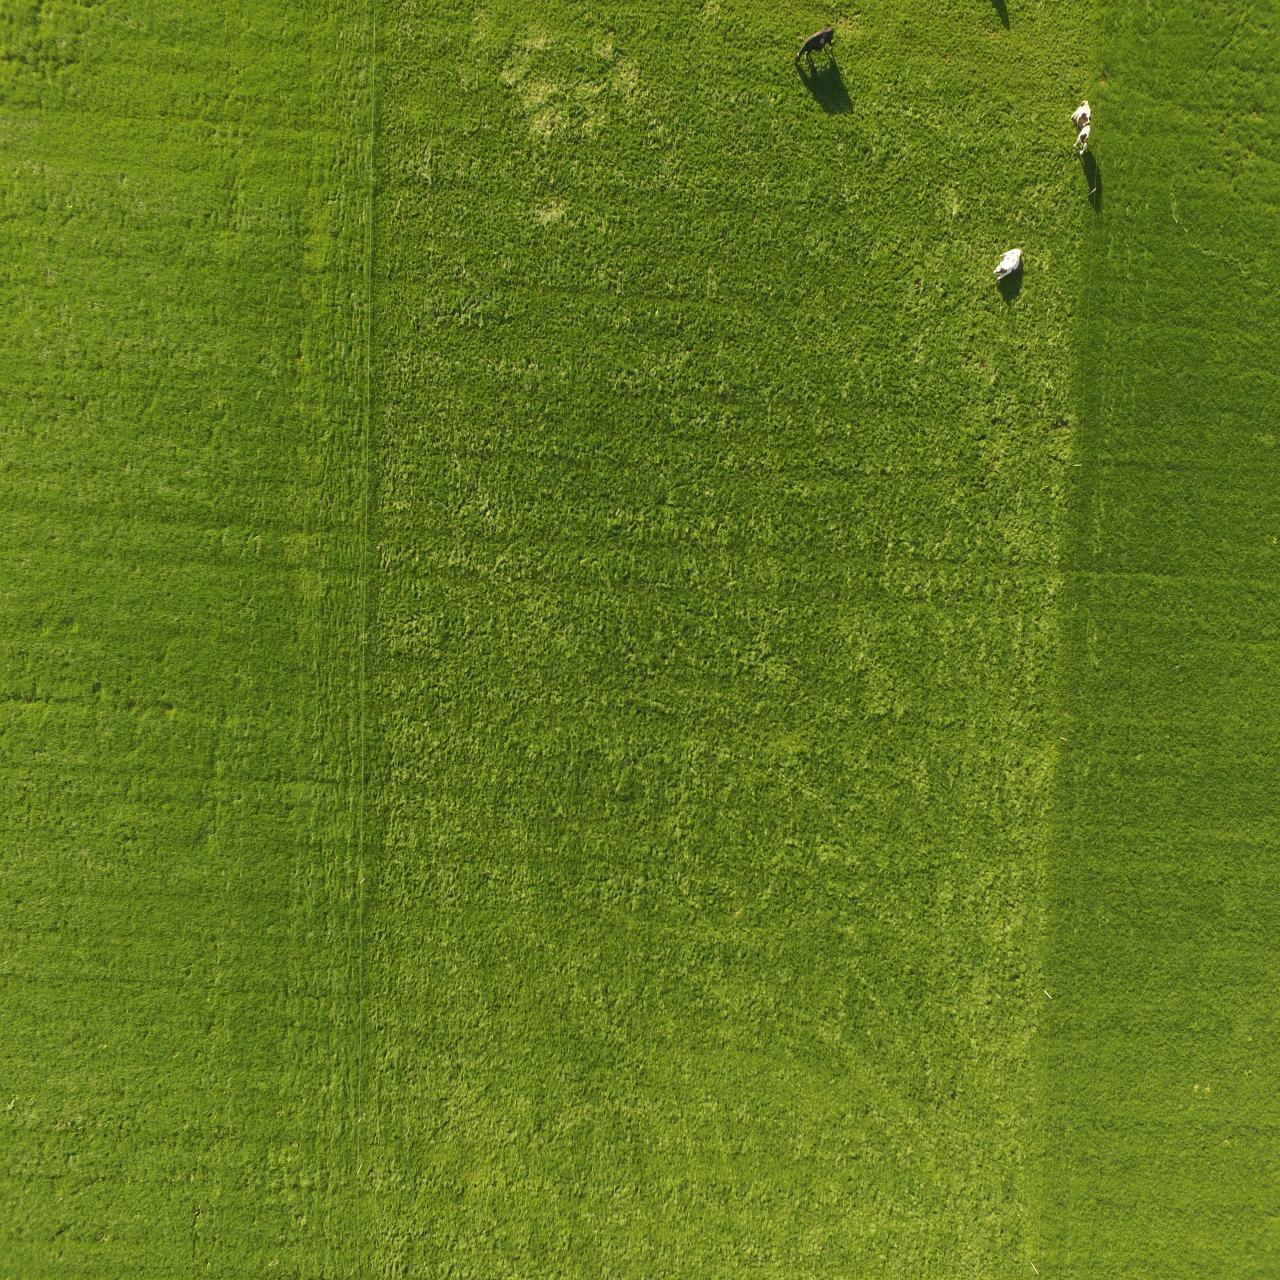cow: (792, 22, 840, 82), (1067, 95, 1095, 158), (990, 243, 1024, 288)
